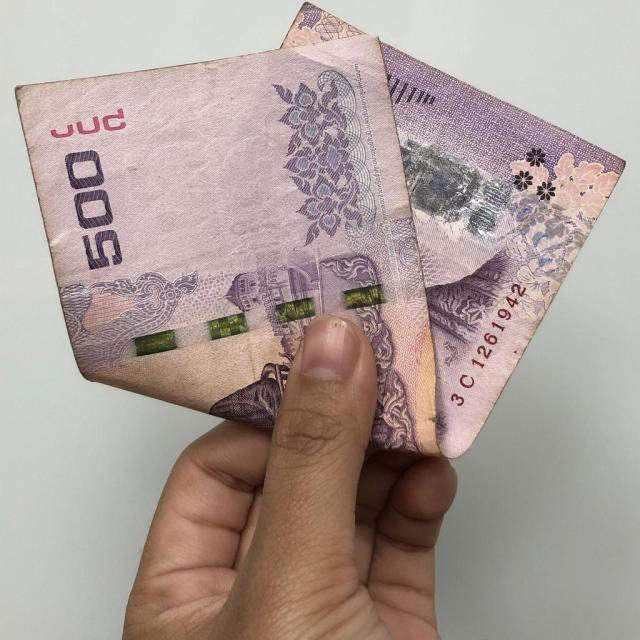THAI500: (14, 6, 626, 462)
